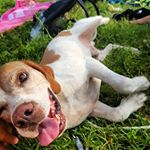puppy: (1, 54, 149, 146)
